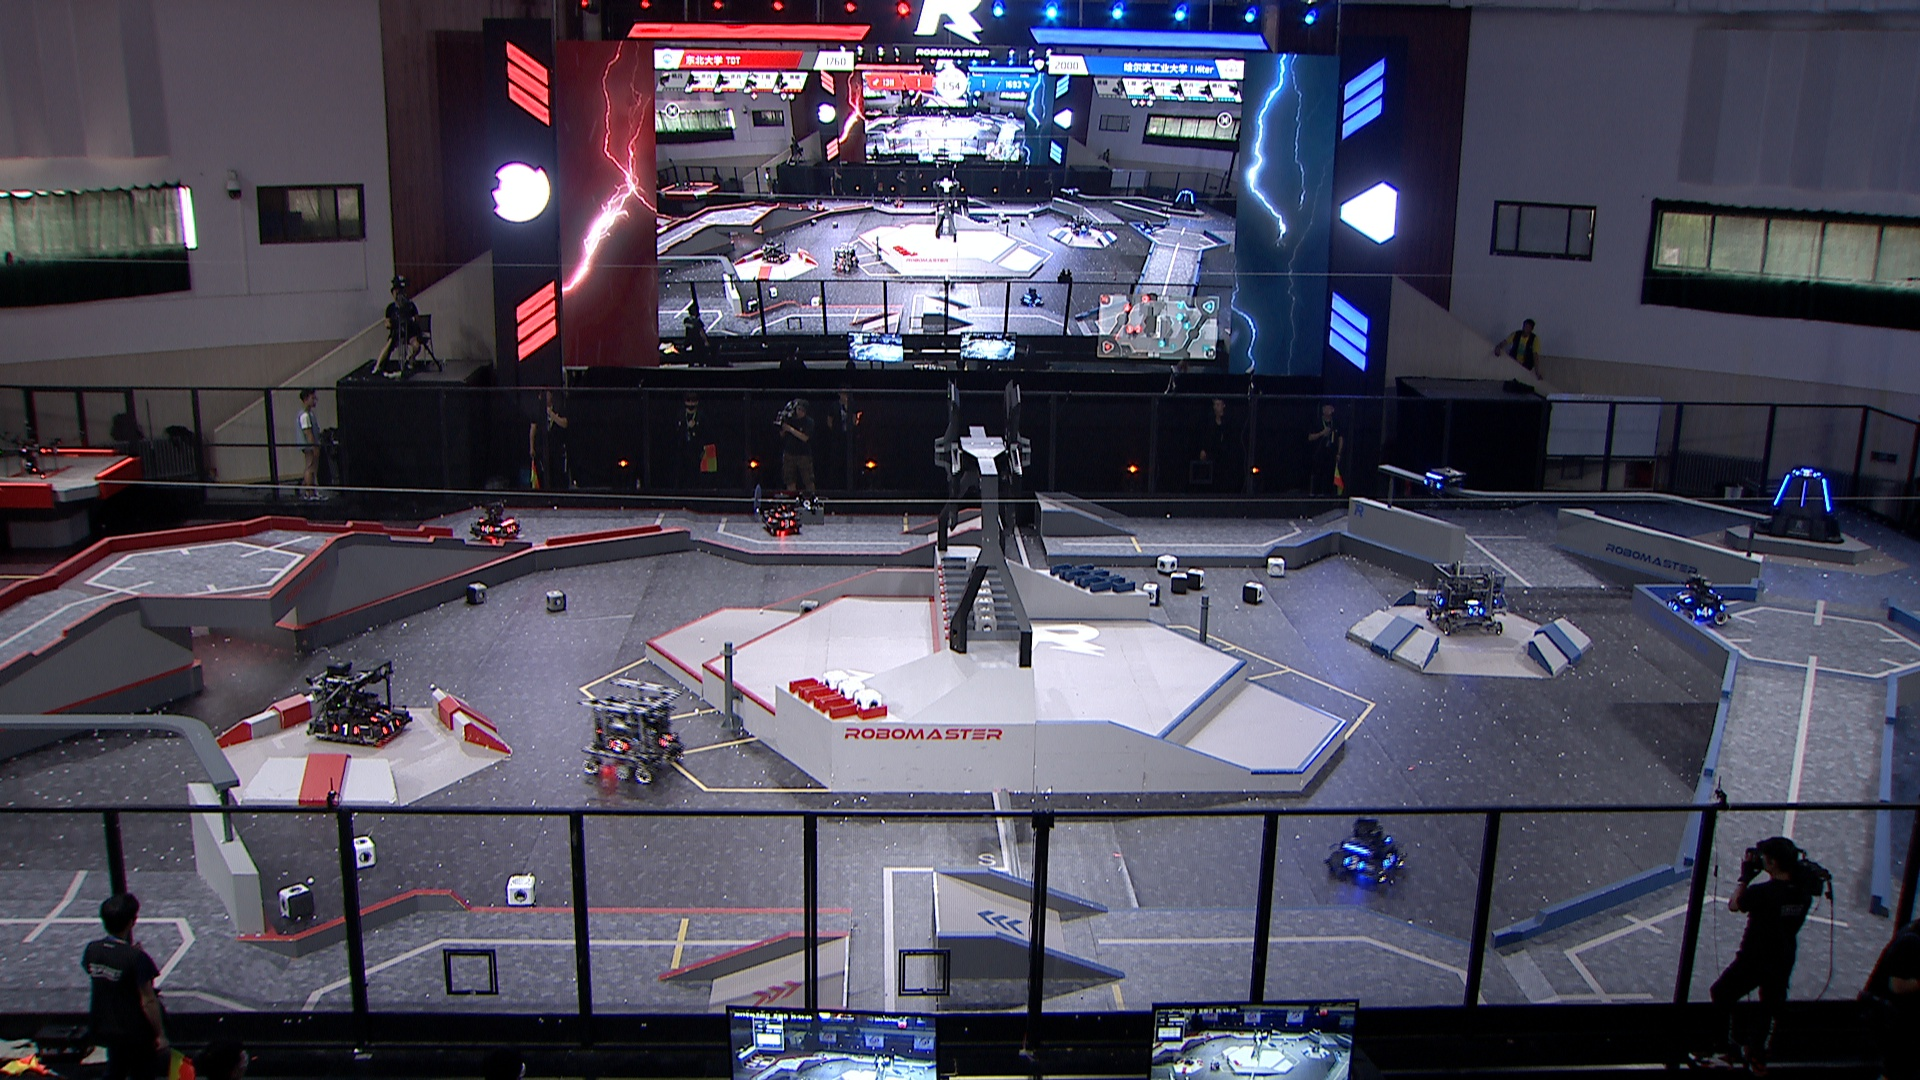armor: (1770, 471, 1795, 508), (1820, 475, 1836, 514), (330, 719, 361, 738), (654, 728, 679, 749), (365, 705, 394, 723), (605, 737, 632, 756), (378, 713, 400, 736), (1342, 855, 1367, 873), (1797, 476, 1811, 509), (1793, 465, 1821, 480), (1420, 476, 1443, 493), (477, 520, 498, 535), (1381, 851, 1396, 870), (1676, 589, 1693, 605), (1665, 595, 1681, 612), (1466, 604, 1485, 618), (771, 508, 796, 518), (1429, 593, 1447, 608), (1695, 605, 1713, 618), (775, 517, 795, 529), (505, 522, 517, 533)
base: (1747, 462, 1850, 549)
car: (579, 675, 686, 785), (305, 655, 411, 746), (1423, 560, 1509, 636), (1328, 814, 1414, 884), (1660, 574, 1731, 632), (469, 498, 524, 543), (757, 493, 804, 538)
ignore: (828, 240, 861, 276), (1168, 186, 1199, 216), (757, 239, 793, 262), (1019, 284, 1048, 310), (1068, 219, 1093, 237), (1139, 218, 1156, 235)
watcher: (1414, 465, 1466, 512)
